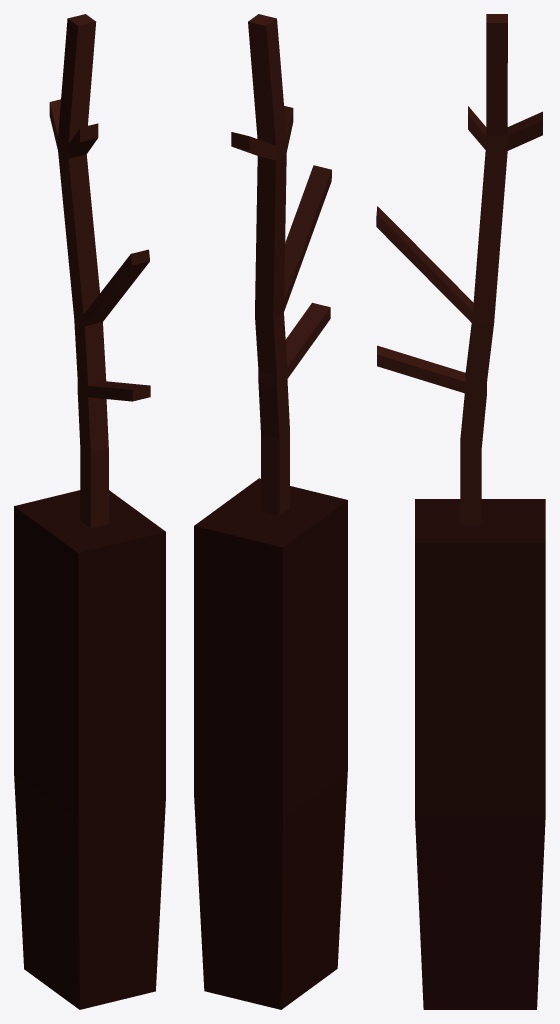
File: plug.fbx
3 renders of one model, left to right at view 1: azimuth 30°, elevation 25°; view 2: azimuth 150°, elevation 25°; view 3: azimuth 270°, elevation 25°, orthographic.
Visible parts, largest first — view 1: Soil, Stem; view 2: Soil, Stem; view 3: Soil, Stem.
Part boxes in pixels (bbox=[...]): Soil: bbox=[14, 490, 165, 1009]; Stem: bbox=[49, 14, 150, 528]; Soil: bbox=[194, 478, 347, 1009]; Stem: bbox=[231, 14, 331, 515]; Soil: bbox=[415, 499, 545, 1009]; Stem: bbox=[376, 14, 542, 525].
Bounding box in the file's own units: 2.88 × 29.97 × 4.73.
